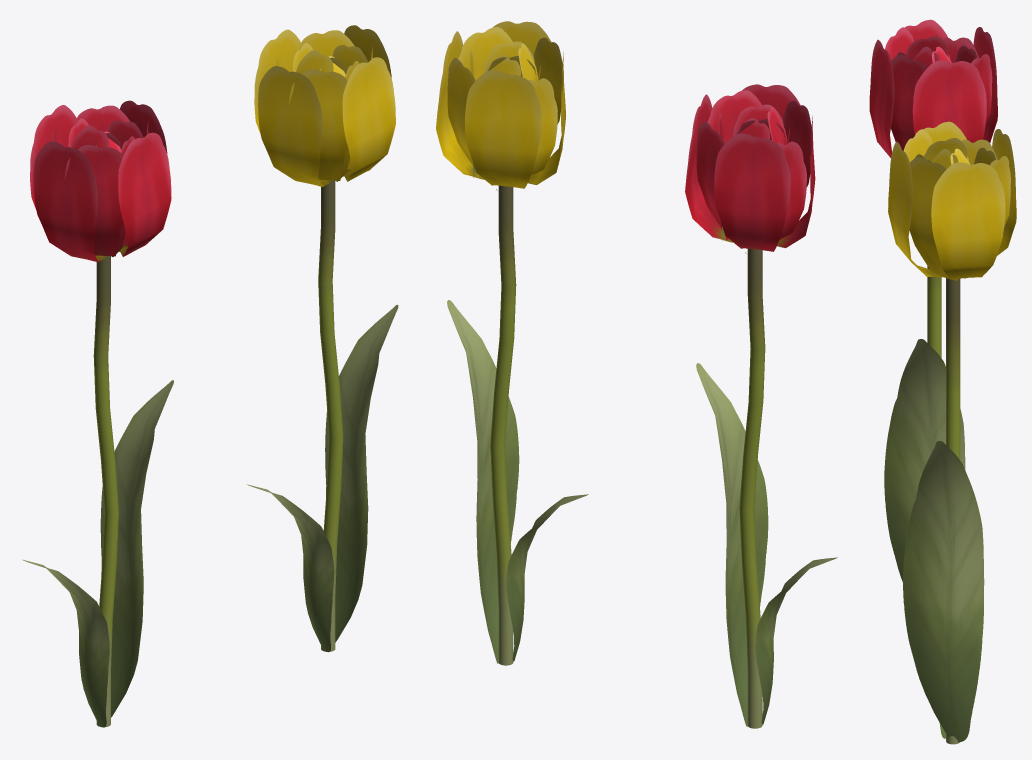
File: tulips.glb
The picture shows the model from 3 angles, left to right: view 1: azimuth 30°, elevation 25°; view 2: azimuth 150°, elevation 25°; view 3: azimuth 270°, elevation 25°; orthographic projection. The views are drawn at different scales.
Parts seen in each view (by area): view 1: Object_3, Object_5, Object_6; view 2: Object_3, Object_5, Object_6; view 3: Object_3, Object_5, Object_6.
Boxes of the visible parts, box(x1,y1,x2,y2) form: Object_3: box(22, 100, 398, 727); Object_5: box(254, 25, 395, 186); Object_6: box(93, 180, 343, 727); Object_3: box(447, 84, 837, 726); Object_5: box(436, 21, 566, 188); Object_6: box(490, 185, 765, 728); Object_3: box(869, 19, 997, 742); Object_5: box(888, 121, 1016, 280); Object_6: box(927, 266, 960, 744).
Size of the model in its own units: 24.61 by 38.56 by 8.43.
Materials: 3 (3 with a texture image).
